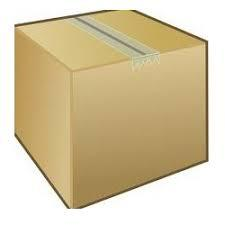Cardboard: (1, 9, 225, 217)
